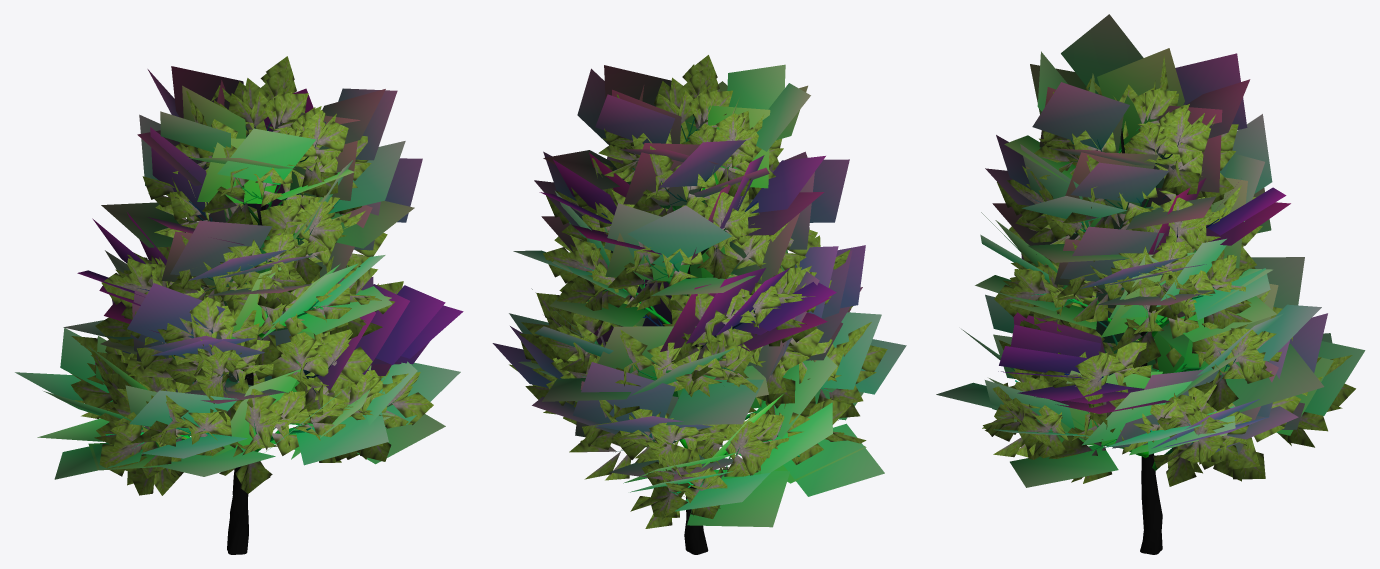
Rendered from BeechTreeGen02_04.fbx.
The picture shows the model from 3 angles, left to right: view 1: azimuth 30°, elevation 25°; view 2: azimuth 150°, elevation 25°; view 3: azimuth 270°, elevation 25°; orthographic projection. The views are drawn at different scales.
Visible parts, largest first — view 1: Tree_1, Tree_2, Tree_0; view 2: Tree_1, Tree_2, Tree_0; view 3: Tree_1, Tree_2, Tree_0.
Boxes of the visible parts, left/top/right/bottom form: Tree_1: left=15, top=66, right=463, bottom=479; Tree_2: left=70, top=56, right=433, bottom=495; Tree_0: left=105, top=122, right=395, bottom=554; Tree_1: left=492, top=64, right=906, bottom=527; Tree_2: left=509, top=55, right=887, bottom=528; Tree_0: left=581, top=117, right=831, bottom=554; Tree_1: left=936, top=14, right=1365, bottom=487; Tree_2: left=982, top=55, right=1355, bottom=486; Tree_0: left=1015, top=118, right=1238, bottom=554.
Size of the model in its own units: 74.72 by 94.28 by 71.98.
